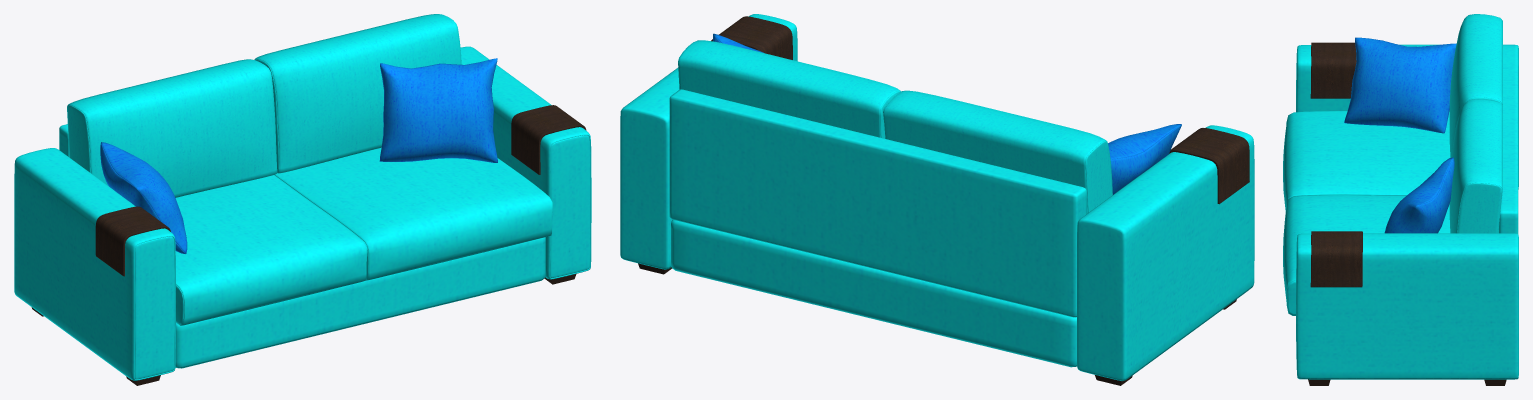
3 views of the same model, side by side, from view 1: azimuth 30°, elevation 25°; view 2: azimuth 150°, elevation 25°; view 3: azimuth 270°, elevation 25° (orthographic). The views are drawn at different scales.
Visible parts, largest first — view 1: Pillow Big_Bottom, Pillow Big_Back, Sidewalls, Frame_bottom, pillow_01, Onlay_wood, pillow_02; view 2: Back cover, Sidewalls, Pillow Big_Back, Frame_bottom, Onlay_wood, pillow_02; view 3: Sidewalls, Pillow Big_Bottom, Pillow Big_Back, pillow_02, Onlay_wood, Back cover, pillow_01, Feet.
Boxes of the visible parts, x1,y1,x2,y2 form: Pillow Big_Bottom: (175, 147, 552, 325); Pillow Big_Back: (67, 14, 461, 197); Sidewalls: (14, 46, 591, 380); Frame_bottom: (175, 237, 545, 368); pillow_01: (379, 58, 497, 162); Onlay_wood: (95, 105, 586, 276); pillow_02: (100, 142, 187, 253); Back cover: (669, 89, 1086, 317); Sidewalls: (620, 14, 1254, 380); Pillow Big_Back: (678, 40, 1112, 213); Frame_bottom: (671, 219, 1076, 367); Onlay_wood: (711, 16, 1249, 204); pillow_02: (1108, 124, 1181, 194); Sidewalls: (1296, 44, 1518, 379); Pillow Big_Bottom: (1283, 111, 1498, 315); Pillow Big_Back: (1449, 14, 1502, 233); pillow_02: (1344, 37, 1456, 133); Onlay_wood: (1310, 42, 1362, 287); Back cover: (1499, 45, 1518, 233); pillow_01: (1384, 157, 1454, 233); Feet: (1308, 379, 1506, 385).
Size of the model in its own units: 208 by 87.79 by 98.22.
3 materials, 3 textured.
